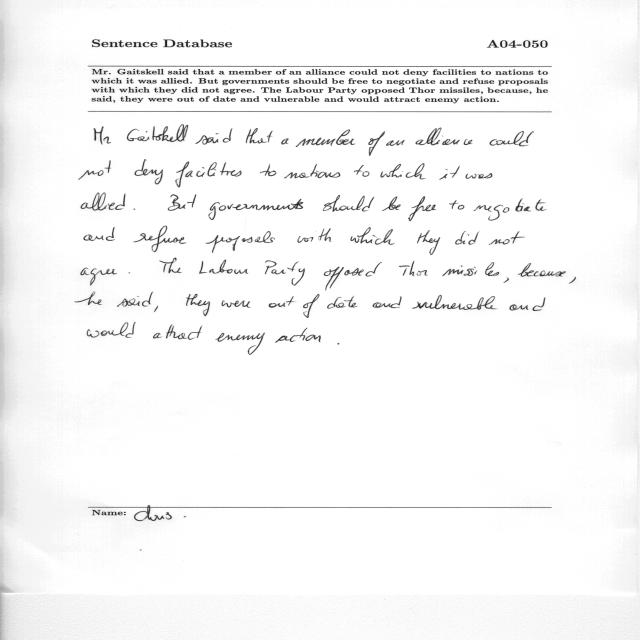word: (209, 199, 304, 220), (175, 162, 242, 188), (324, 262, 382, 291), (474, 199, 547, 221), (205, 231, 275, 253), (134, 226, 187, 252), (412, 295, 497, 310), (215, 333, 265, 355), (296, 129, 355, 147), (265, 260, 305, 286), (127, 125, 188, 142), (416, 128, 473, 145), (323, 195, 374, 212), (81, 193, 126, 211), (350, 227, 395, 245), (153, 324, 203, 340), (442, 262, 499, 276), (284, 164, 340, 178), (380, 163, 426, 179), (87, 323, 136, 338), (134, 160, 163, 185), (408, 196, 436, 221), (275, 328, 321, 343), (199, 260, 248, 274), (489, 131, 534, 146), (518, 263, 566, 277), (81, 268, 117, 286), (79, 160, 111, 180), (196, 128, 233, 145), (417, 230, 440, 255), (117, 292, 153, 307), (186, 294, 210, 316), (297, 228, 331, 243), (489, 231, 525, 245), (168, 194, 196, 211), (510, 298, 546, 311), (84, 227, 115, 241), (246, 128, 273, 144), (369, 131, 386, 156), (399, 261, 427, 276), (303, 294, 320, 318), (327, 296, 358, 309), (75, 292, 102, 305), (159, 258, 182, 273), (455, 231, 479, 245), (373, 297, 402, 308), (269, 296, 295, 308), (94, 127, 111, 145), (439, 166, 460, 180), (382, 196, 401, 211), (222, 300, 251, 308), (260, 164, 276, 176), (354, 165, 369, 177), (466, 173, 493, 179), (450, 200, 465, 210), (386, 140, 405, 146), (281, 139, 289, 145), (569, 277, 576, 283), (504, 277, 509, 283), (154, 306, 158, 312), (338, 343, 340, 345), (133, 209, 135, 210), (128, 273, 130, 274)
